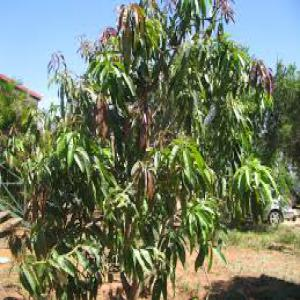Tree: (38, 6, 271, 289)
